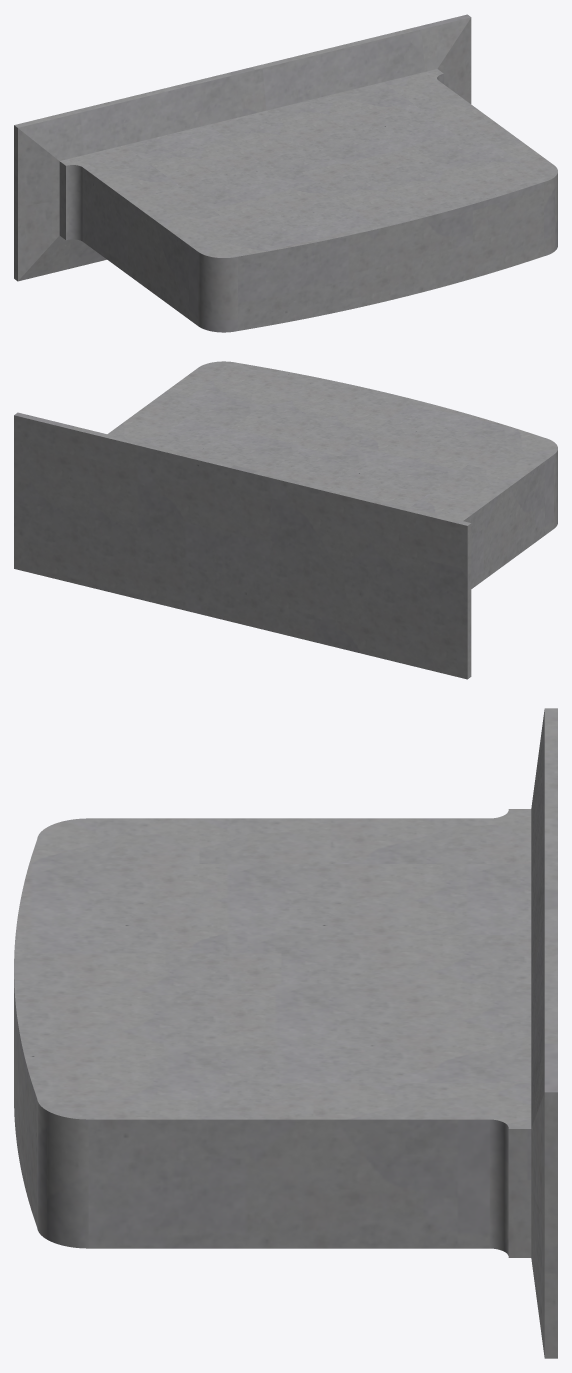
3 renders of one model, top to bottom at view 1: azimuth 30°, elevation 25°; view 2: azimuth 150°, elevation 25°; view 3: azimuth 270°, elevation 25°, orthographic. The views are drawn at different scales.
Visible parts, largest first — view 1: PA-622-F_LOD0; view 2: PA-622-F_LOD0; view 3: PA-622-F_LOD0.
Part boxes in pixels (x1,y1,x2,y2): PA-622-F_LOD0: (14, 14, 557, 332); PA-622-F_LOD0: (14, 361, 557, 679); PA-622-F_LOD0: (14, 708, 557, 1358).
Size of what is drawn, in the model's own units: 173 by 55.88 by 103.
